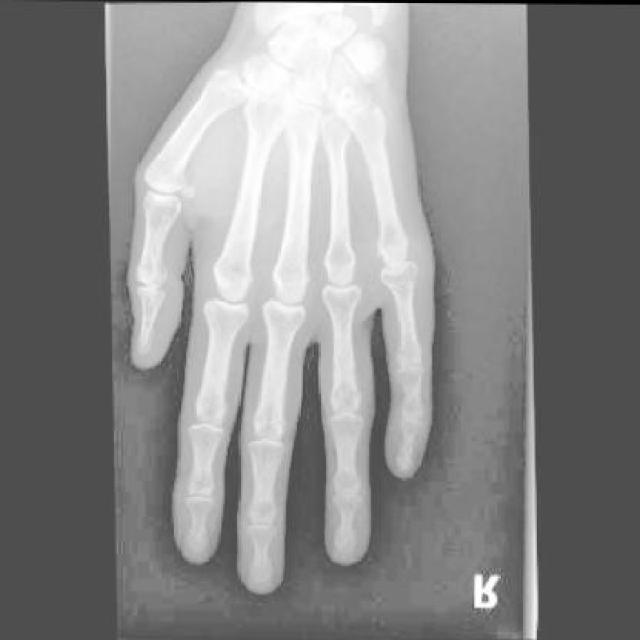Fracture: (134, 258, 167, 291)
